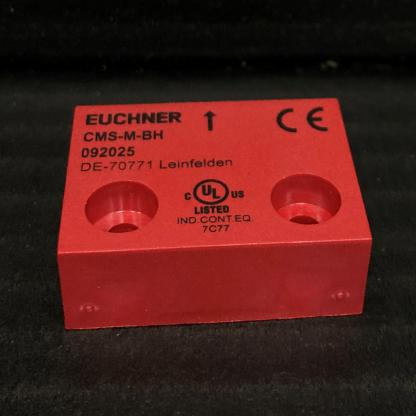SP0000001: (37, 56, 396, 362)
